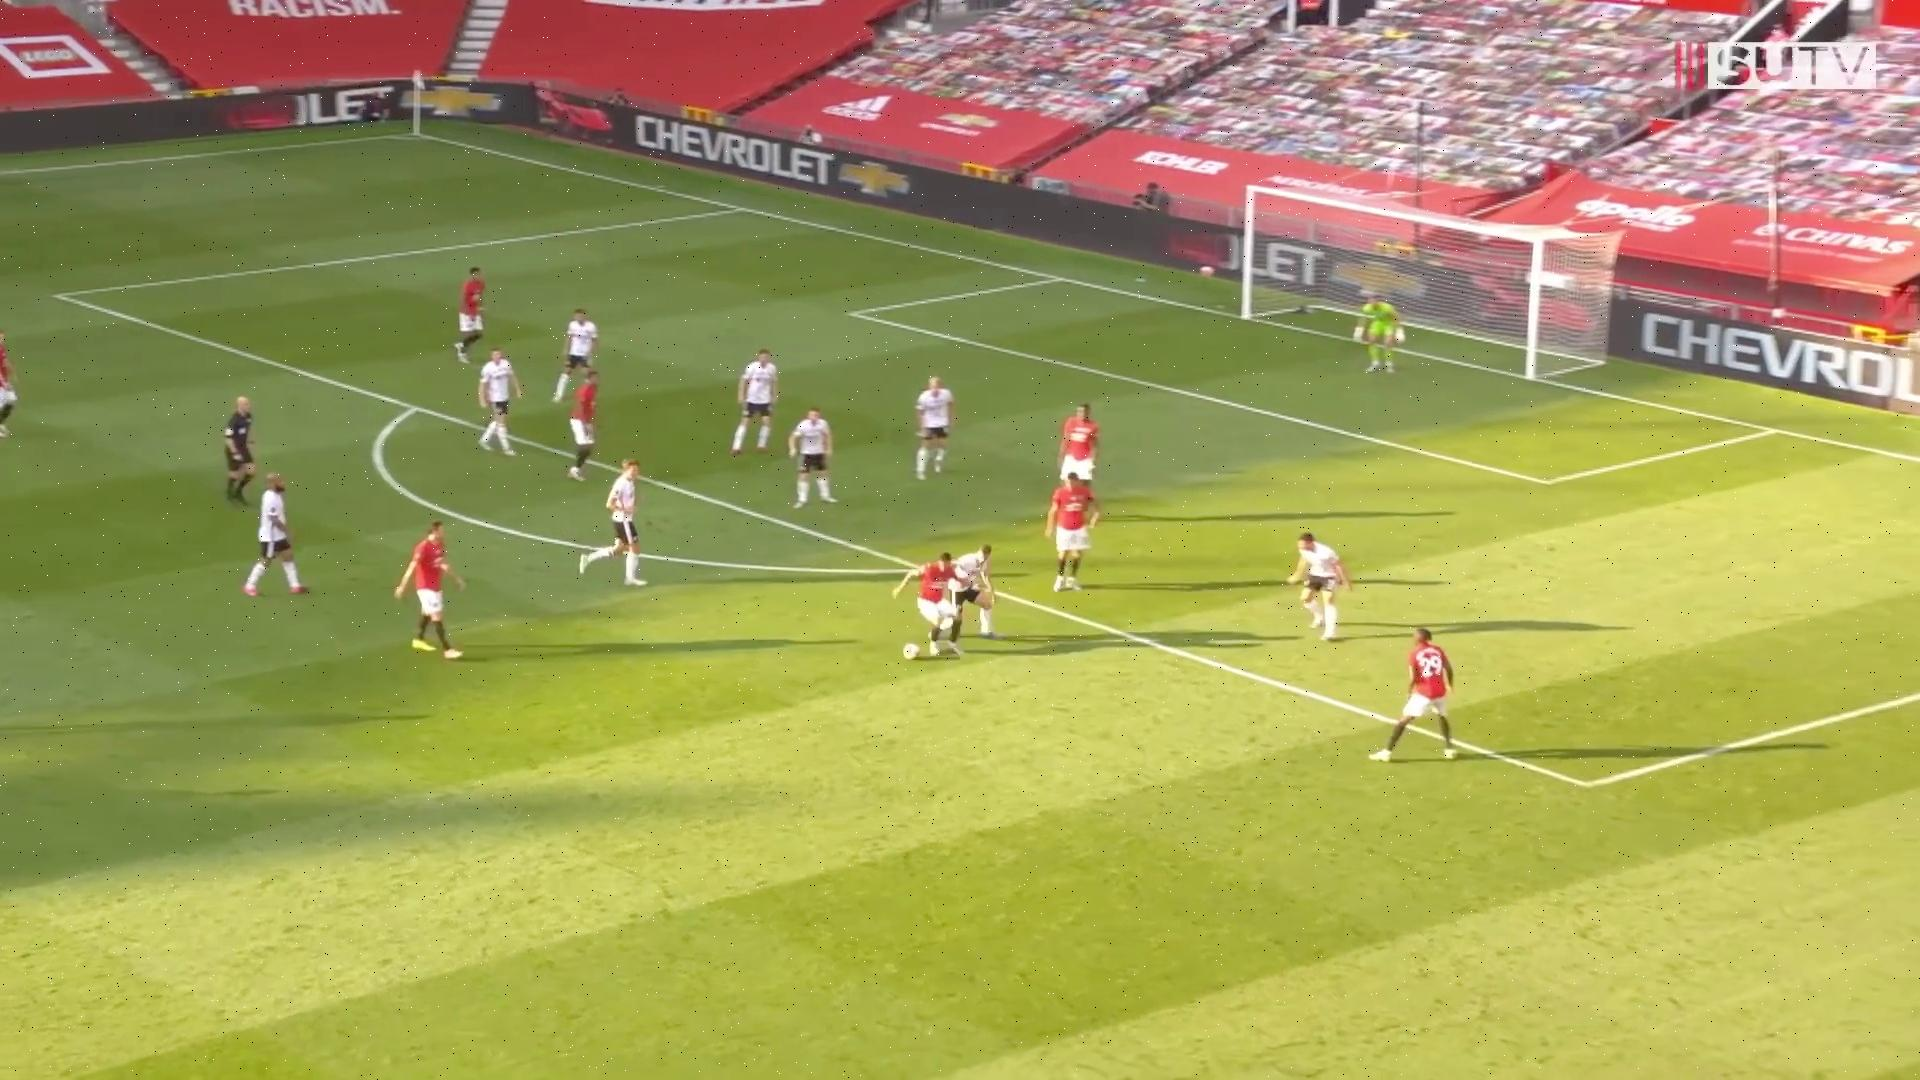ball: (901, 642, 923, 661)
